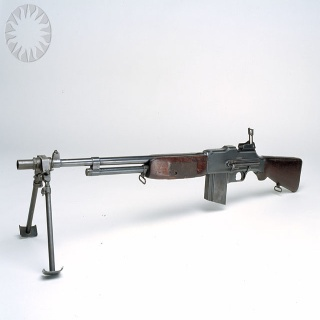rifle: (15, 128, 303, 274)
